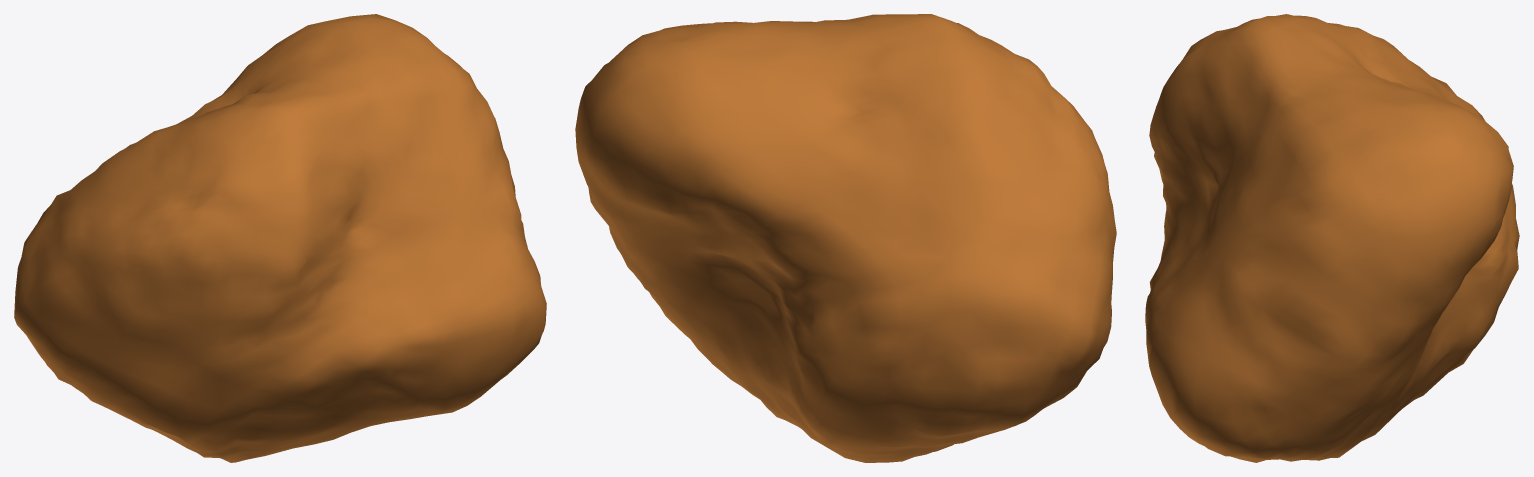
Rendered from meteor.glb.
The picture shows the model from 3 angles, left to right: view 1: azimuth 30°, elevation 25°; view 2: azimuth 150°, elevation 25°; view 3: azimuth 270°, elevation 25°; orthographic projection. The views are drawn at different scales.
Visible parts, largest first — view 1: meteor; view 2: meteor; view 3: meteor.
Part boxes in pixels (<box>): meteor: <box>14,14,546,462</box>; meteor: <box>575,14,1116,462</box>; meteor: <box>1145,14,1519,462</box>.
Bounding box in the file's own units: 14.68 × 11.31 × 9.65.
